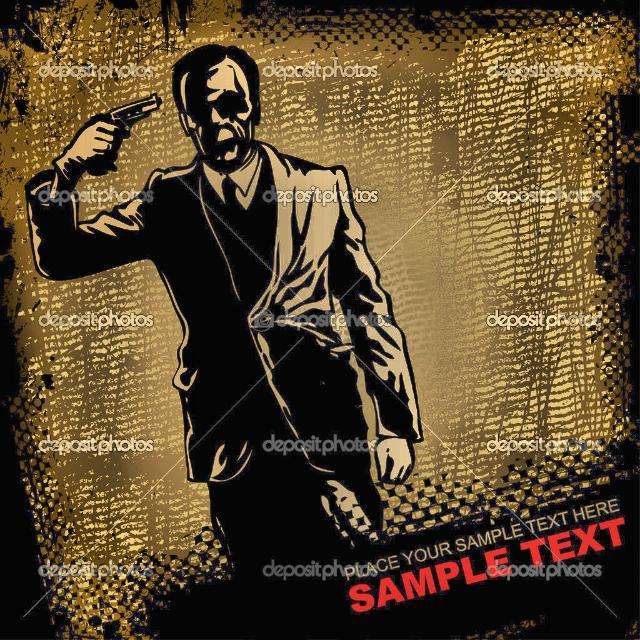pistol: (56, 90, 164, 180)
